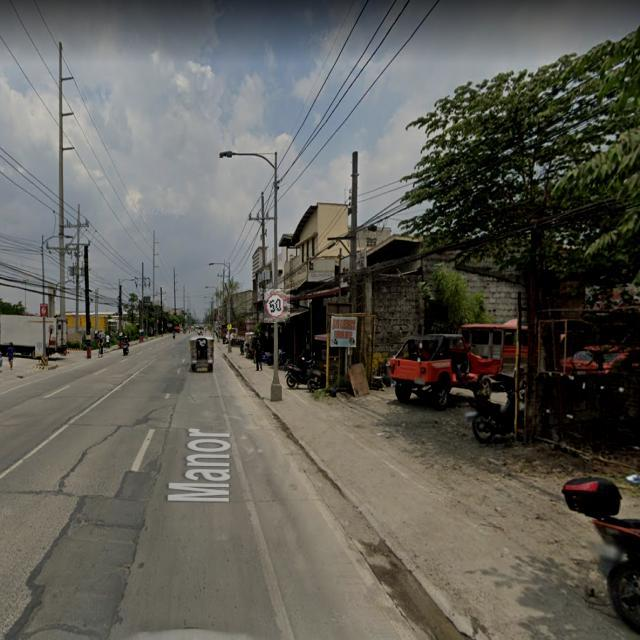50 kph: (264, 289, 290, 323)
